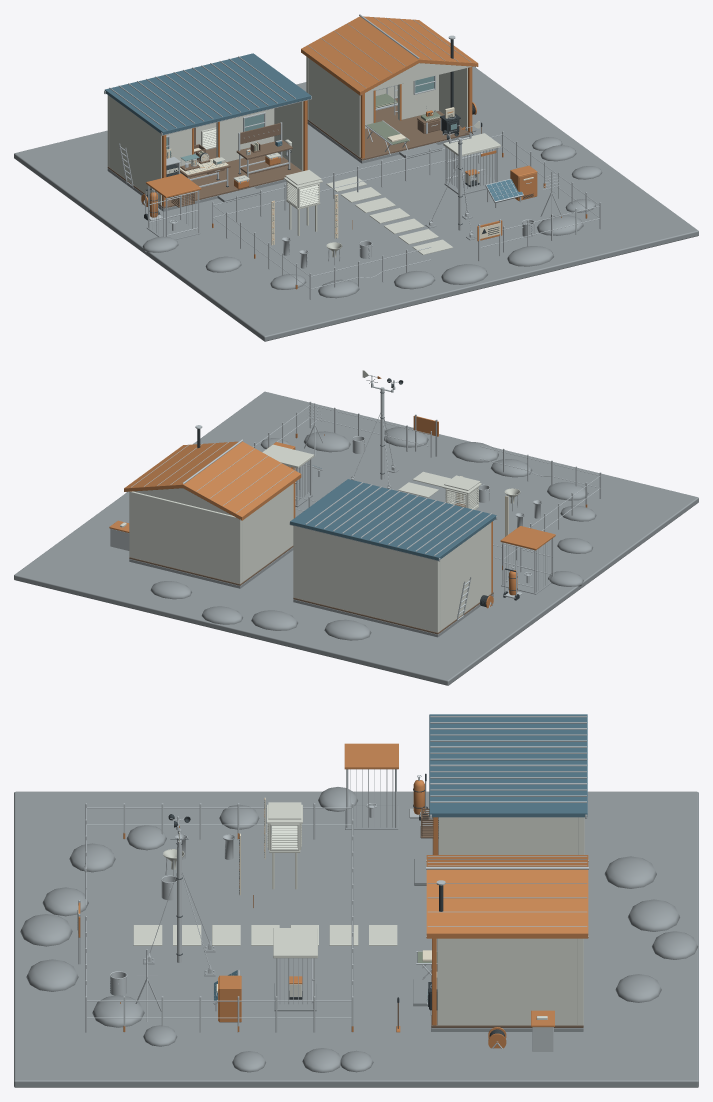
The model's file is abandoned-weather-station-and-storm-shel-36f0ba03-starter-scene__31054.glb.
3 views of the same model, one above another, from view 1: azimuth 30°, elevation 25°; view 2: azimuth 150°, elevation 25°; view 3: azimuth 270°, elevation 25° (orthographic). The views are drawn at different scales.
Visible parts, largest first — view 1: 000-rocky-station-base/3, 001-roofed-station-house/3, 002-storm-shelter-hut/5, 001-roofed-station-house/2, 002-storm-shelter-hut/3, 000-rocky-station-base/0, 000-rocky-station-base/1, 002-storm-shelter-hut/1, 001-roofed-station-house/1, 001-roofed-station-house/0, 031-stevenson-screen/1, 007-repair-bench/1 (+12 smaller); view 2: 000-rocky-station-base/3, 001-roofed-station-house/2, 002-storm-shelter-hut/3, 001-roofed-station-house/3, 002-storm-shelter-hut/5, 001-roofed-station-house/0, 000-rocky-station-base/0, 050-balloon-inflation-cage/0, 031-stevenson-screen/1, 050-balloon-inflation-cage/1, 002-storm-shelter-hut/0, 000-rocky-station-base/1 (+6 smaller); view 3: 000-rocky-station-base/3, 001-roofed-station-house/3, 002-storm-shelter-hut/5, 002-storm-shelter-hut/3, 001-roofed-station-house/2, 001-roofed-station-house/0, 000-rocky-station-base/0, 000-rocky-station-base/1, 002-storm-shelter-hut/0, 031-stevenson-screen/1, 050-balloon-inflation-cage/1, 034-instrument-enclosure/1 (+7 smaller).
Boxes of the visible parts, <box> form: 000-rocky-station-base/3: <box>14,66,698,341</box>; 001-roofed-station-house/3: <box>104,53,311,134</box>; 002-storm-shelter-hut/5: <box>301,16,478,158</box>; 001-roofed-station-house/2: <box>107,95,303,205</box>; 002-storm-shelter-hut/3: <box>306,56,471,157</box>; 000-rocky-station-base/0: <box>212,131,601,299</box>; 000-rocky-station-base/1: <box>326,176,453,254</box>; 002-storm-shelter-hut/1: <box>307,98,472,160</box>; 001-roofed-station-house/1: <box>107,127,302,208</box>; 001-roofed-station-house/0: <box>104,56,311,149</box>; 031-stevenson-screen/1: <box>283,170,322,235</box>; 007-repair-bench/1: <box>236,123,292,174</box>; 000-rocky-station-base/3: <box>14,391,698,685</box>; 001-roofed-station-house/2: <box>293,522,491,632</box>; 002-storm-shelter-hut/3: <box>129,483,293,583</box>; 001-roofed-station-house/3: <box>290,479,496,560</box>; 002-storm-shelter-hut/5: <box>124,441,301,520</box>; 001-roofed-station-house/0: <box>289,482,497,561</box>; 000-rocky-station-base/0: <box>253,401,601,570</box>; 050-balloon-inflation-cage/0: <box>502,538,553,593</box>; 031-stevenson-screen/1: <box>442,475,481,509</box>; 050-balloon-inflation-cage/1: <box>500,526,555,550</box>; 002-storm-shelter-hut/0: <box>126,439,294,520</box>; 000-rocky-station-base/1: <box>398,471,450,497</box>; 000-rocky-station-base/3: <box>14,787,698,1087</box>; 001-roofed-station-house/3: <box>429,714,587,817</box>; 002-storm-shelter-hut/5: <box>426,855,588,1025</box>; 002-storm-shelter-hut/3: <box>437,938,583,1025</box>; 001-roofed-station-house/2: <box>438,817,584,854</box>; 001-roofed-station-house/0: <box>430,716,587,818</box>; 000-rocky-station-base/0: <box>84,803,353,1032</box>; 000-rocky-station-base/1: <box>133,925,397,945</box>; 002-storm-shelter-hut/0: <box>426,856,588,937</box>; 031-stevenson-screen/1: <box>266,802,302,889</box>; 050-balloon-inflation-cage/1: <box>344,743,398,769</box>; 034-instrument-enclosure/1: <box>273,928,317,958</box>.
Bounding box in the file's own units: 18.08 × 4.4 × 18.
